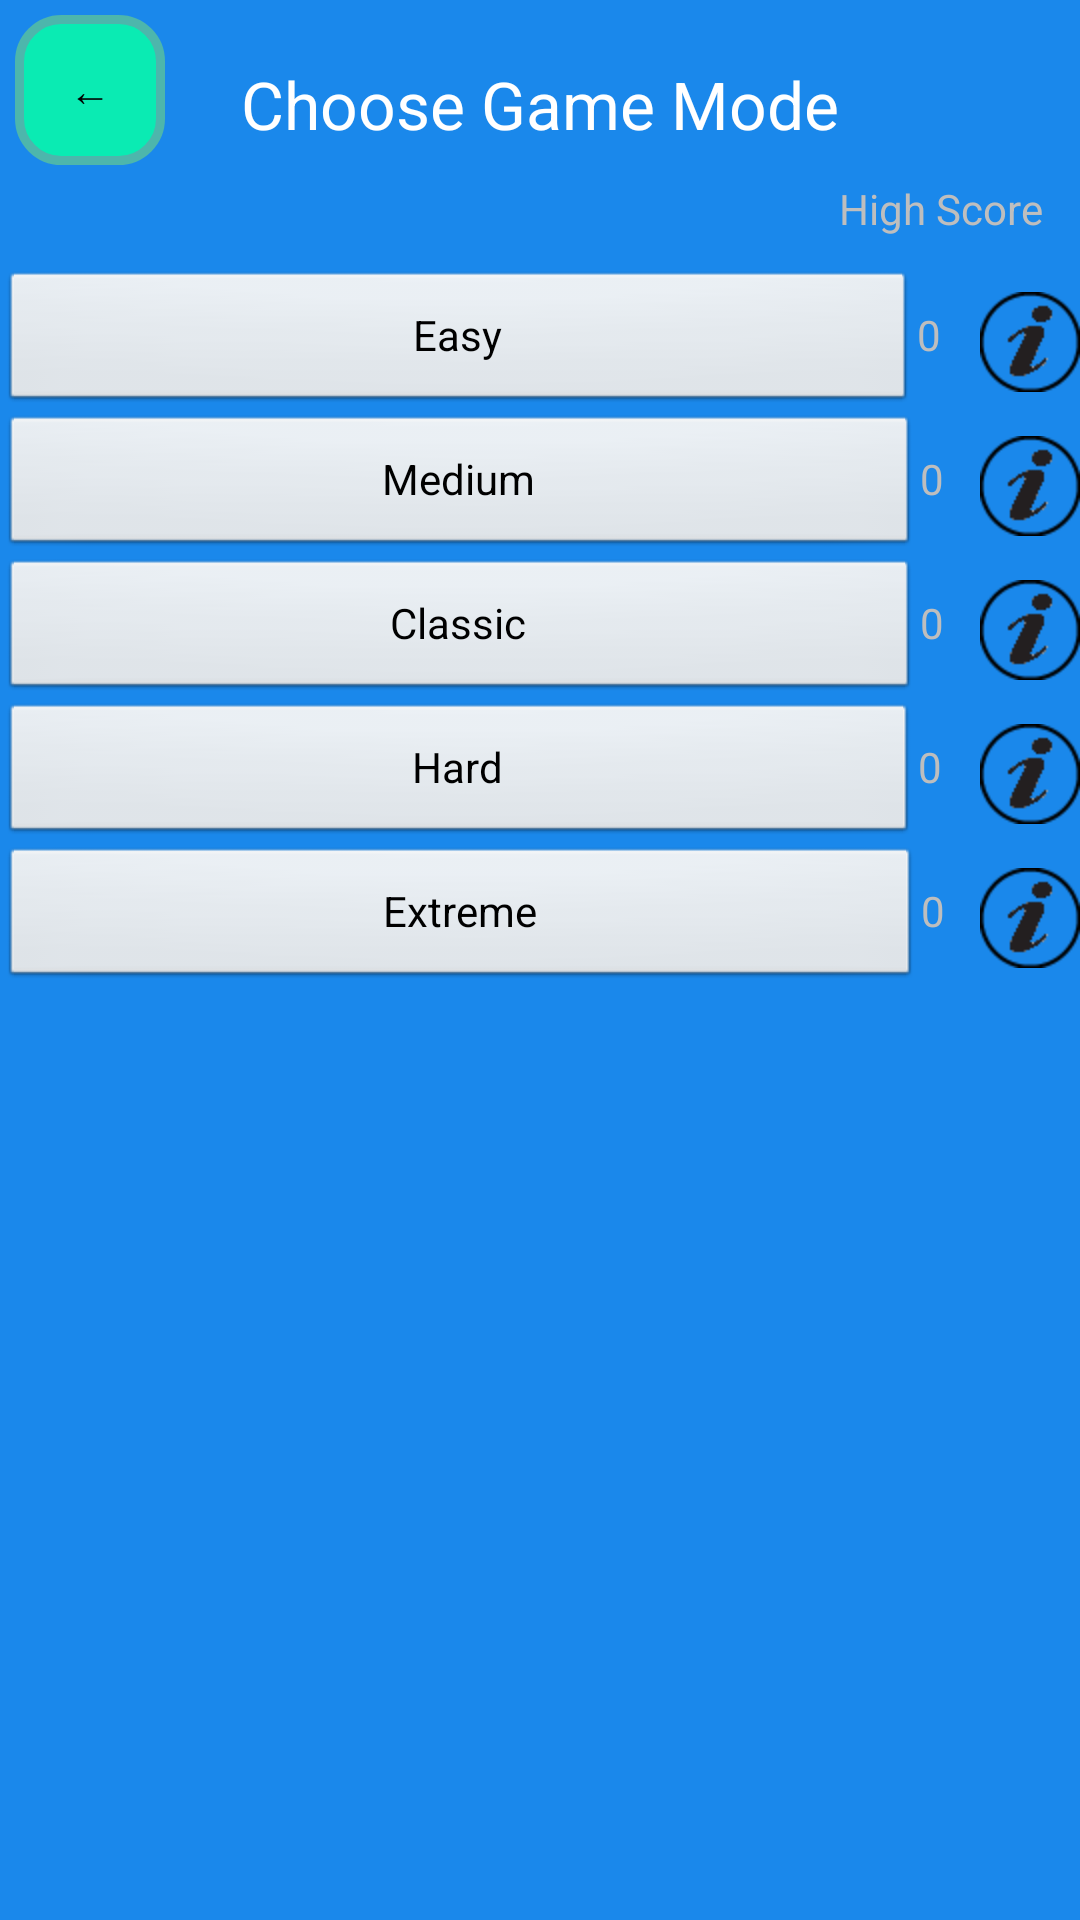

Screen size 1080w x 1920h. Icon name, then its center in pixels as (x=x, y=y):
informationbutton: (x=1030, y=342), (x=1030, y=486), (x=1030, y=630), (x=1030, y=774), (x=1030, y=918)
